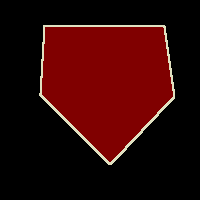tie: (40, 26, 174, 164)
